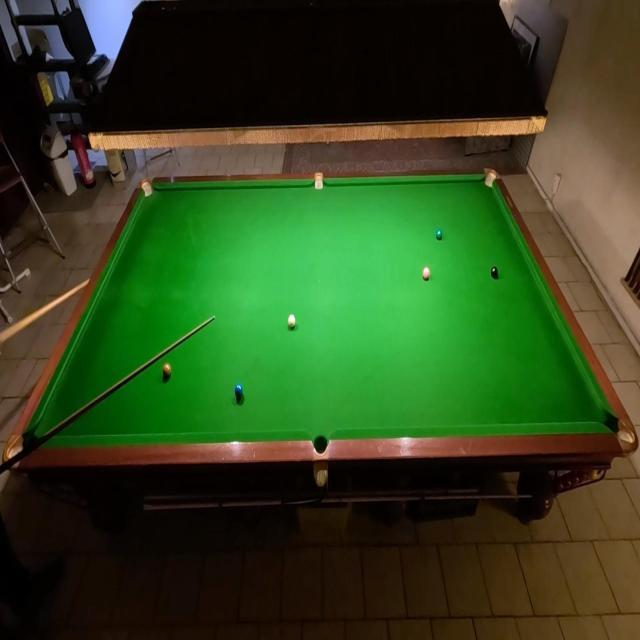Ball: (233, 382, 244, 402), (286, 313, 296, 331), (162, 362, 172, 380), (422, 266, 432, 282), (434, 228, 444, 243), (491, 264, 498, 280)
Pocket: (6, 427, 39, 467), (603, 414, 636, 452), (312, 434, 329, 456), (482, 171, 498, 190), (141, 180, 155, 199), (313, 173, 325, 190)
